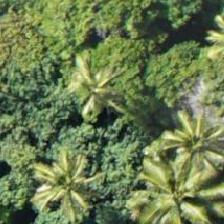coconut_tree: (46, 43, 136, 133), (22, 140, 112, 223), (148, 99, 223, 189), (131, 154, 221, 223)
